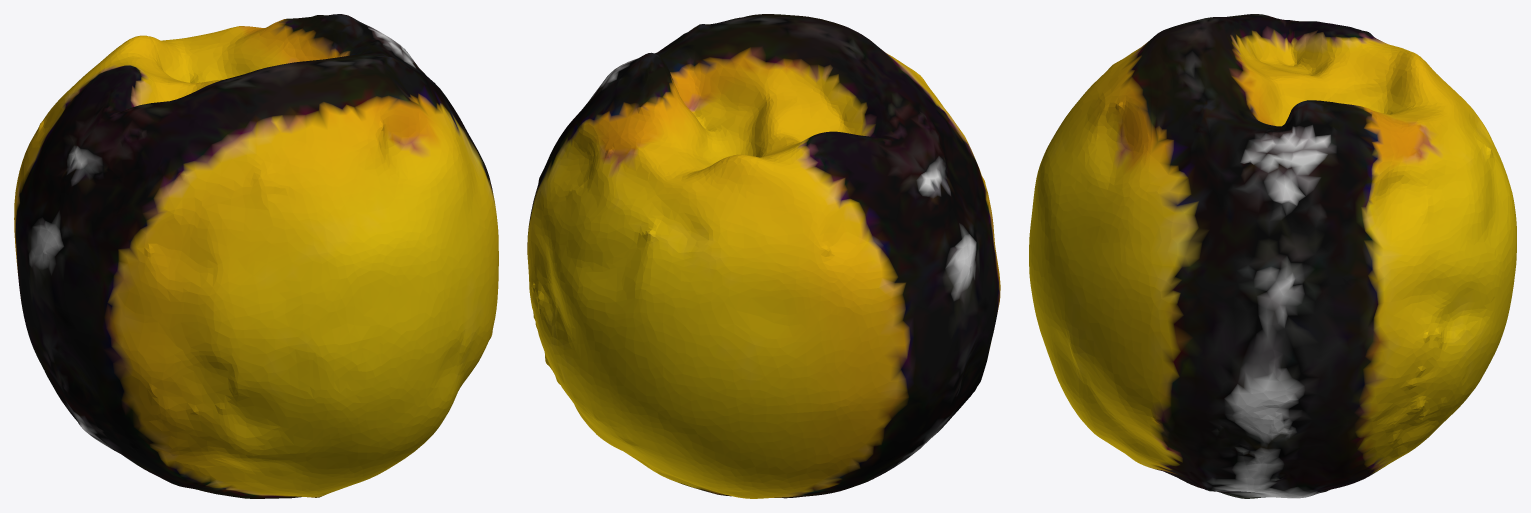
File: orange.glb
3 views of the same model, side by side, from view 1: azimuth 30°, elevation 25°; view 2: azimuth 150°, elevation 25°; view 3: azimuth 270°, elevation 25° (orthographic). The views are drawn at different scales.
Visible parts, largest first — view 1: geometry_0; view 2: geometry_0; view 3: geometry_0.
Part boxes in pixels (x1,y1,x2,y2): geometry_0: (14, 14, 498, 498); geometry_0: (527, 14, 1000, 498); geometry_0: (1029, 14, 1516, 498).
Bounding box in the file's own units: 0.5 × 0.4865 × 0.5002.
